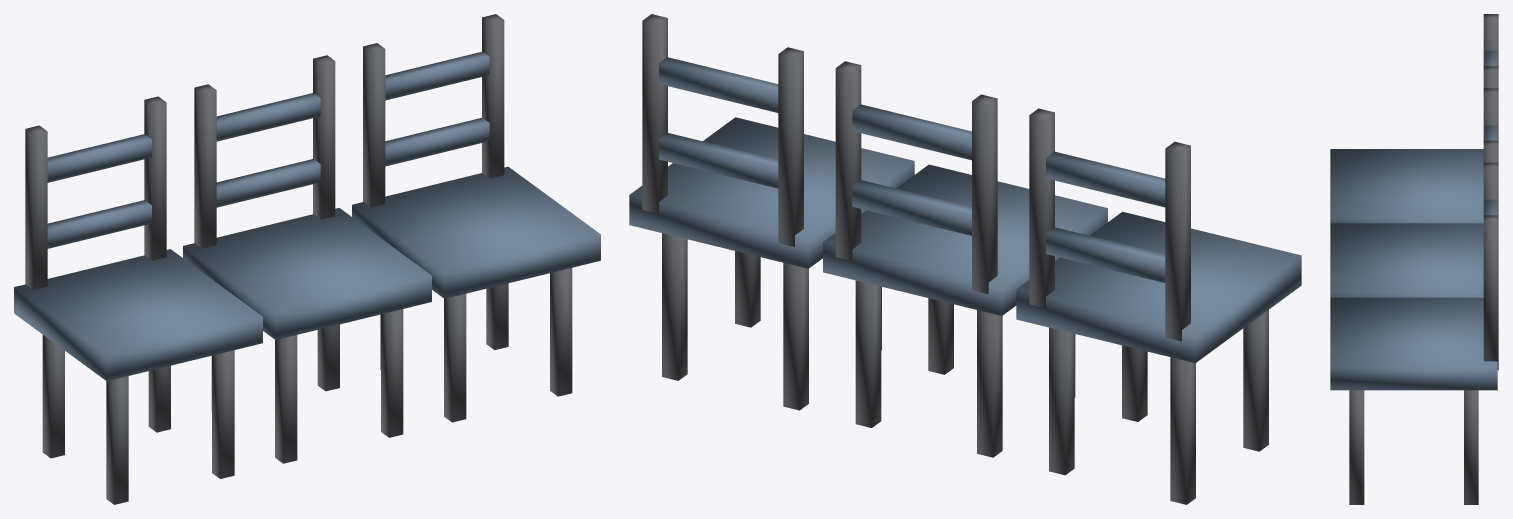
Rendered from station_bench__cluster.glb.
3 renders of one model, left to right at view 1: azimuth 30°, elevation 25°; view 2: azimuth 150°, elevation 25°; view 3: azimuth 270°, elevation 25°, orthographic. The views are drawn at different scales.
Parts seen in each view (by area): view 1: world; view 2: world; view 3: world.
Part boxes in pixels (<box>): world: <box>14,14,600,504</box>; world: <box>629,14,1301,504</box>; world: <box>1330,14,1498,504</box>.
Size of the model in its own units: 1.57 by 0.9614 by 0.5112.
